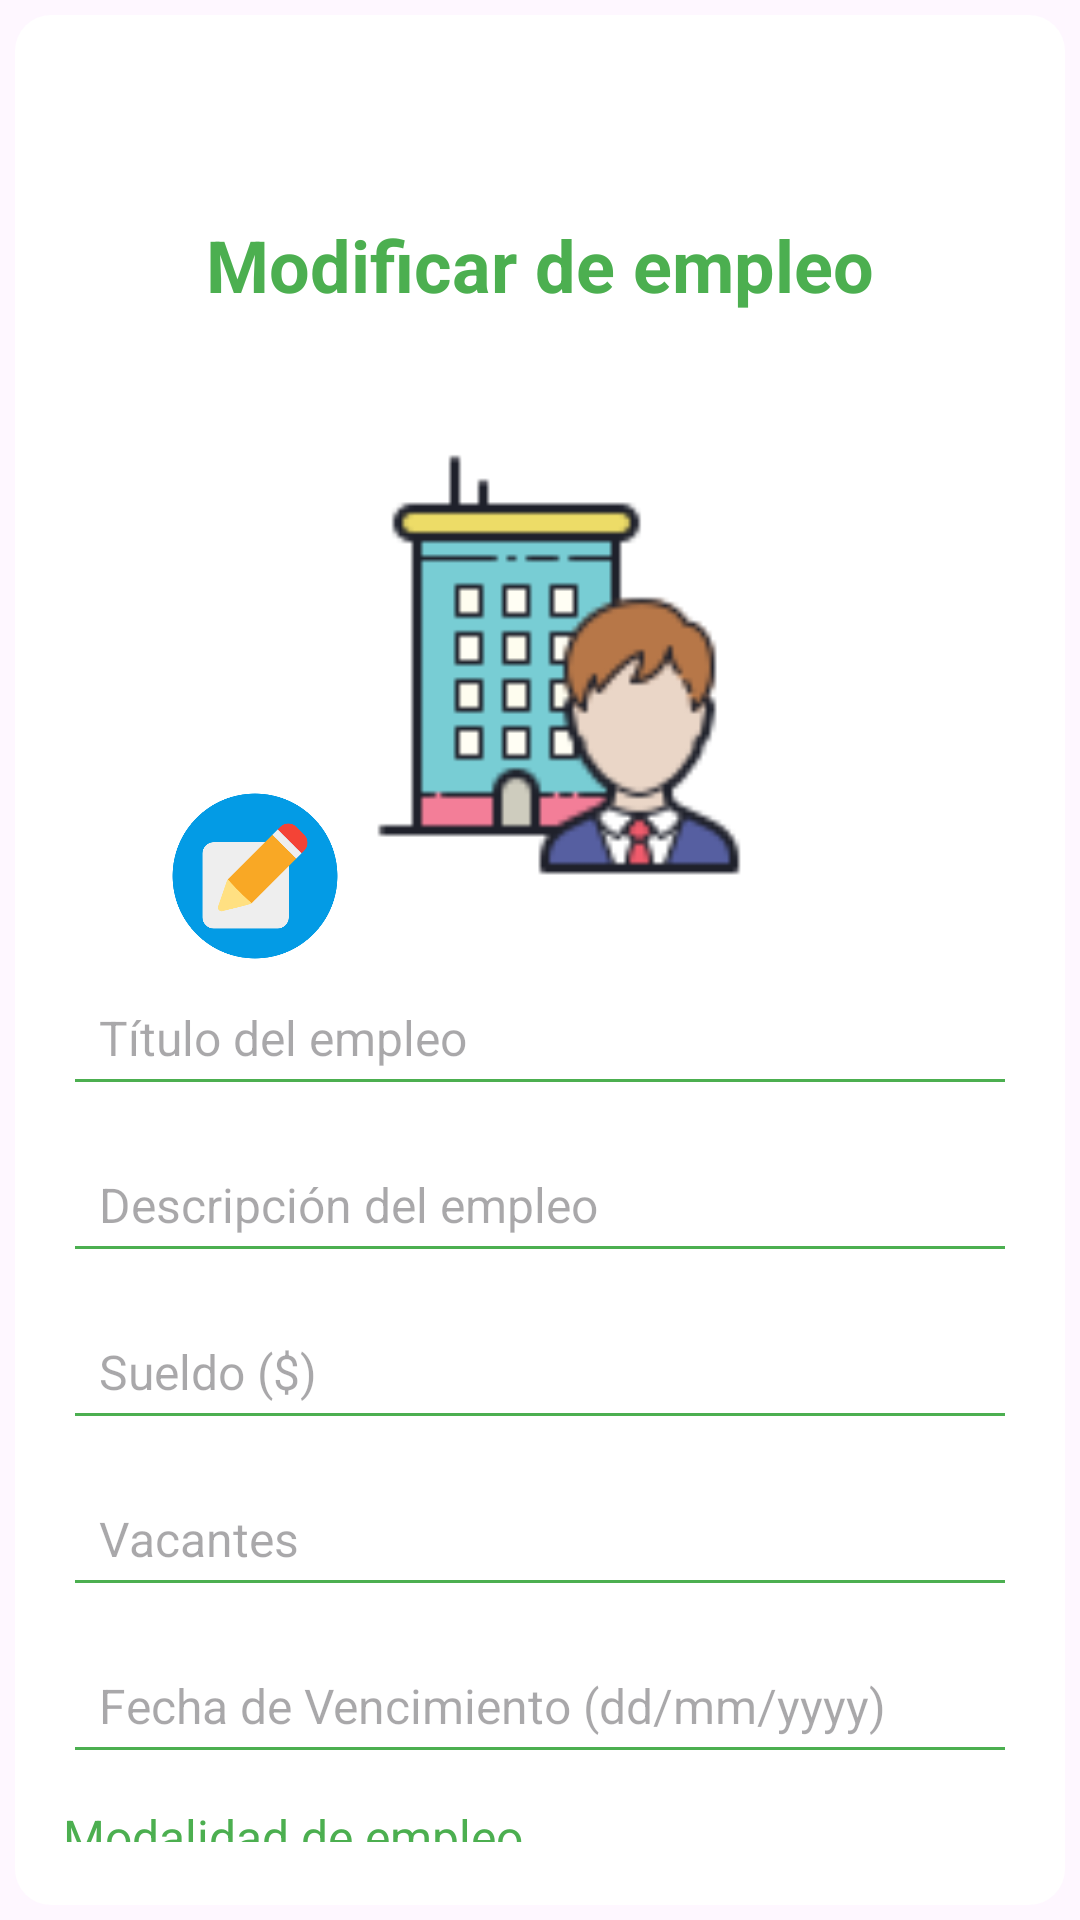

Point at icon controls on the screen. Image size 1080*1920, points as (x=x, y=y).
editar: (x=255, y=876)
